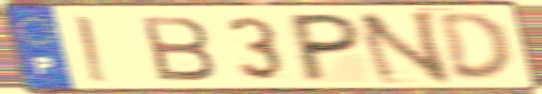3: (223, 15, 287, 82)
B: (136, 14, 220, 83)
D: (435, 10, 517, 85)
I: (72, 14, 112, 84)
N: (352, 8, 456, 87)
P: (290, 11, 364, 85)
